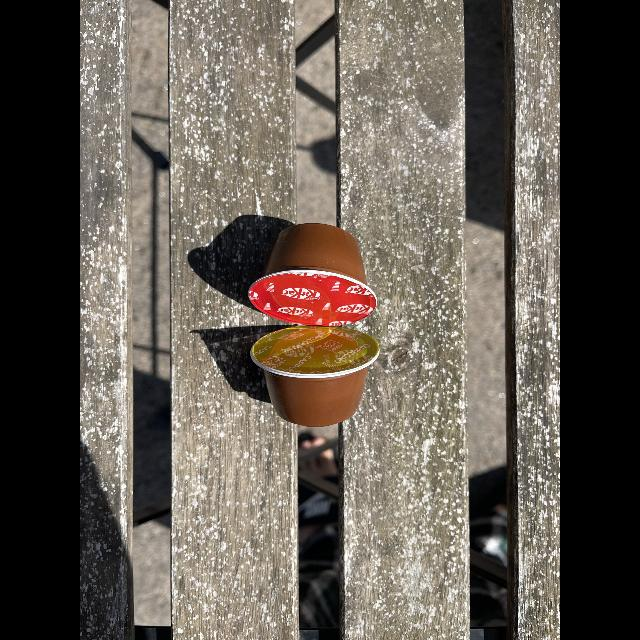intact_capsule: (242, 214, 386, 328), (245, 326, 402, 430)
